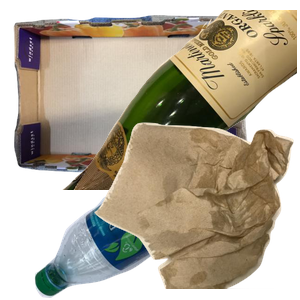cardboard: (11, 13, 251, 182)
glass: (60, 10, 300, 190)
plastic: (32, 154, 242, 300)
trash: (92, 120, 300, 300)
